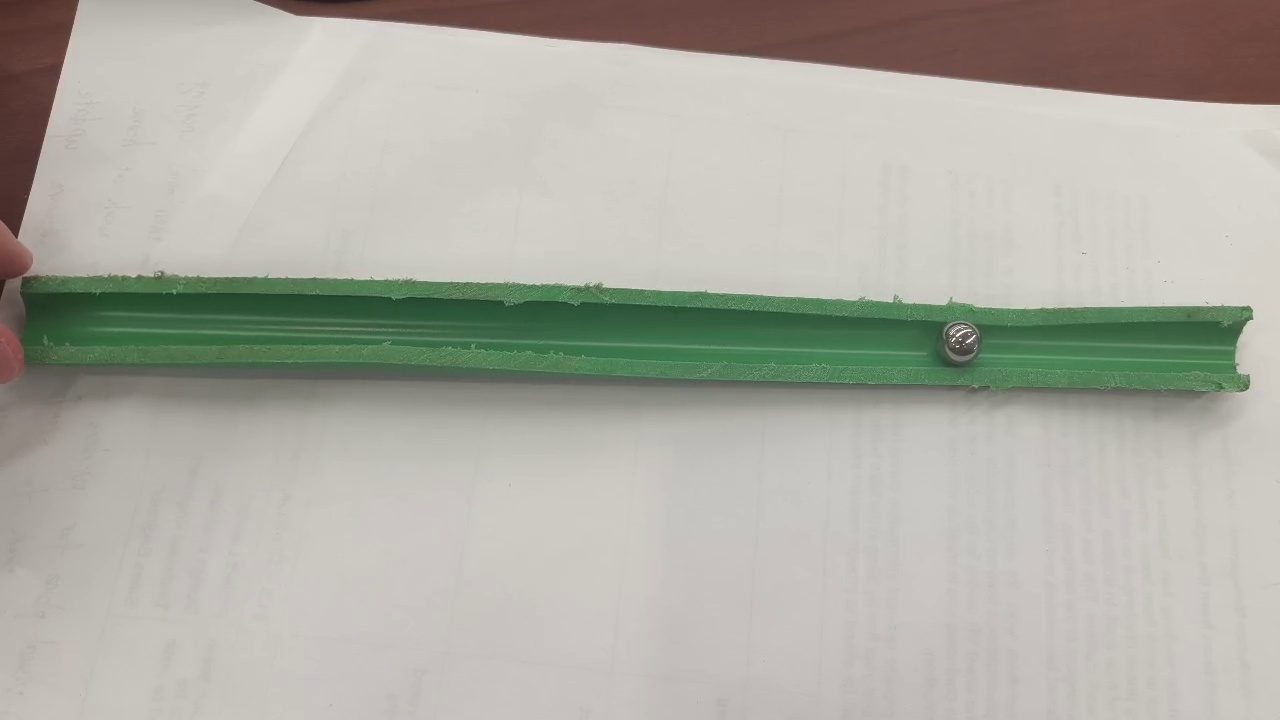ball: (943, 321, 980, 364)
